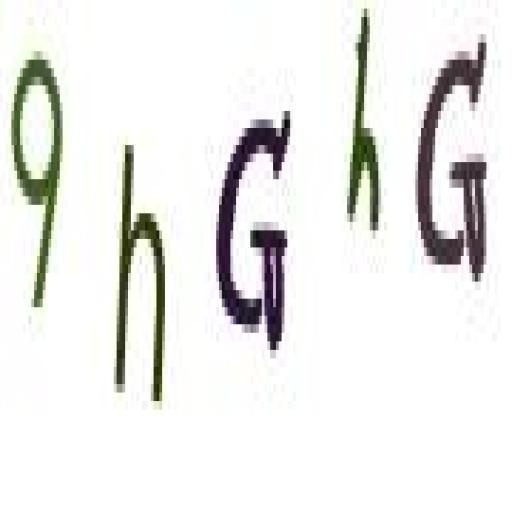9: (9, 38, 72, 316)
G: (410, 19, 493, 303), (214, 89, 294, 374)
h: (113, 130, 171, 426), (344, 0, 385, 255)
